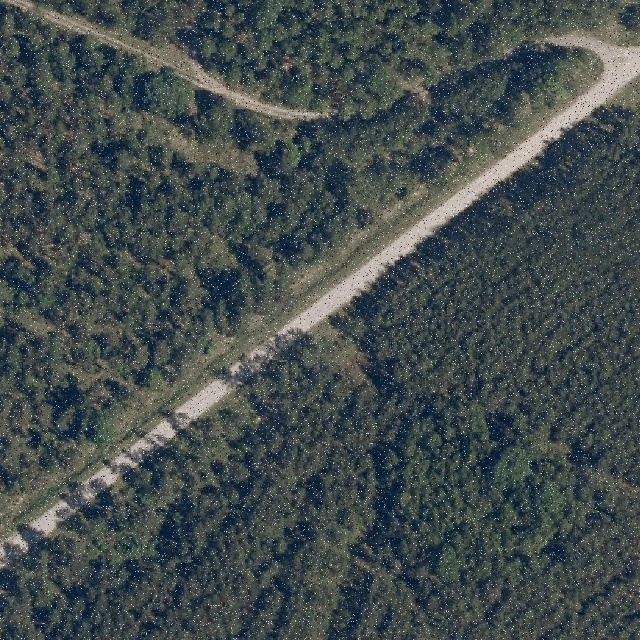vegetation: (0, 105, 640, 640), (0, 0, 599, 498), (37, 0, 640, 114)
